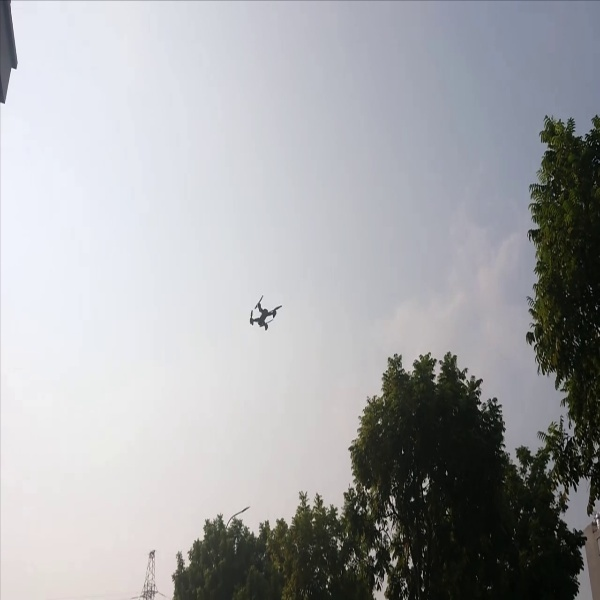drone: (244, 294, 283, 334)
